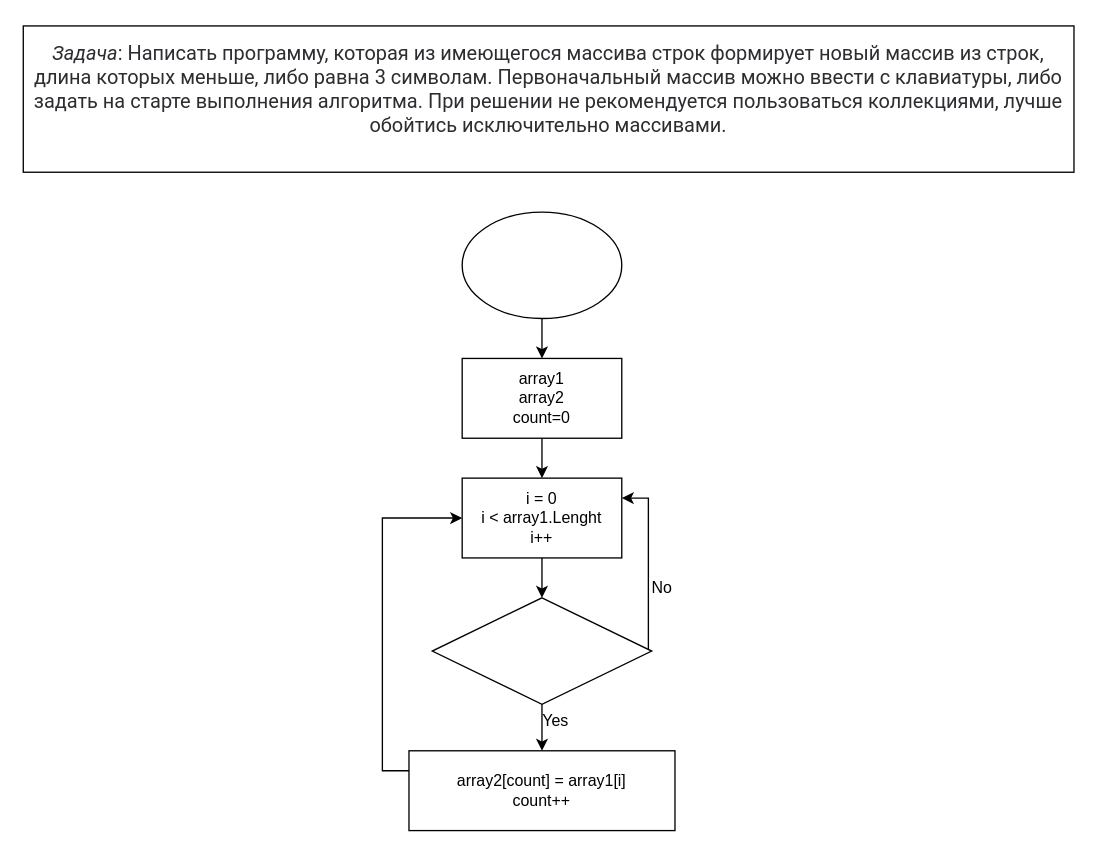
Image size: 1097x854. Some labels were removed from this diagram. Here are the shapes that lost their labels. From the top down, the centre of each, then its label:
point (541, 265): Start
point (541, 650): if(array1[i].Lenght <= 3)
